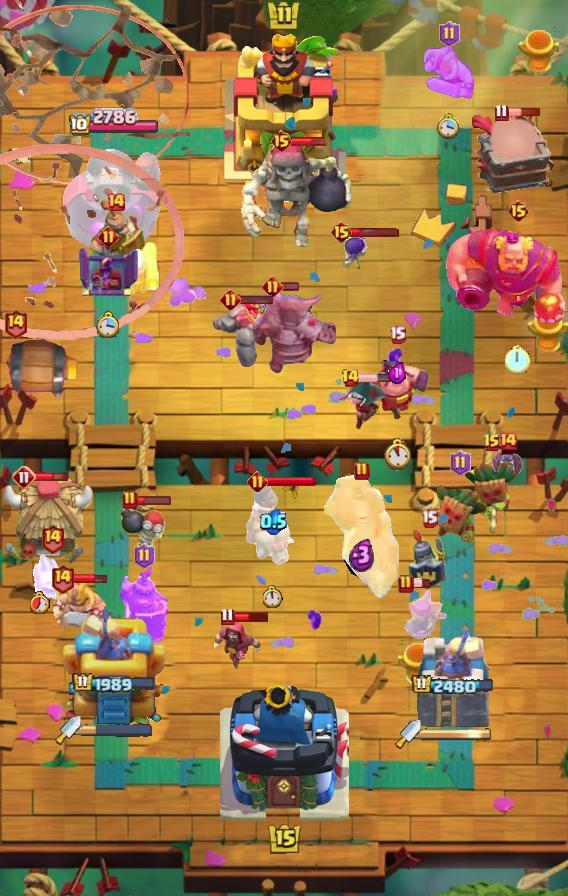bar: (62, 601, 166, 731), (414, 623, 492, 731)
barbarian-barrel: (491, 449, 525, 477)
bowler: (212, 618, 262, 672)
dart-goblin: (469, 112, 554, 194)
earthquake: (87, 200, 145, 270)
electro-giant: (239, 139, 357, 251)
electro-spirit: (349, 538, 375, 572), (260, 508, 287, 535), (388, 362, 406, 384)
elite-barbarian: (245, 481, 301, 569)
elixir: (383, 437, 413, 470), (505, 344, 531, 374), (437, 112, 461, 140), (96, 310, 120, 337), (30, 590, 50, 614), (263, 585, 283, 608)
elixir-golem-big: (118, 561, 170, 649)
emote: (265, 475, 317, 487), (350, 227, 400, 238), (233, 609, 271, 623), (34, 469, 69, 483), (72, 571, 108, 584), (238, 293, 274, 305), (136, 495, 172, 506), (290, 136, 325, 147), (357, 373, 393, 383), (506, 107, 541, 117), (280, 280, 299, 291), (413, 579, 432, 590)
evolution-symbol: (391, 587, 449, 649)
goblin: (340, 234, 370, 274)
goblin-barrel: (462, 458, 522, 534), (432, 481, 488, 545)
goblin-giant: (422, 43, 476, 99), (50, 577, 108, 629)
golemite: (241, 287, 337, 373)
guard: (0, 5, 190, 184)
ice-golem: (118, 504, 170, 558)
ice-spirit-evolution-symbol: (76, 245, 140, 299)
king-tower: (219, 678, 349, 826), (222, 31, 346, 181)
king-tower-bar: (81, 723, 153, 737), (421, 727, 493, 741)
lightning: (445, 227, 567, 327)
mirror: (32, 554, 72, 604)
monk: (364, 344, 430, 422)
prince: (0, 476, 94, 566)
princess: (408, 527, 450, 591)
selected: (68, 108, 160, 138), (71, 672, 156, 696), (411, 674, 495, 698)
skeleton-barrel: (0, 0, 184, 342)
tesla: (334, 377, 388, 431)
text: (39, 522, 64, 553), (50, 562, 75, 593), (4, 308, 28, 339), (12, 465, 36, 489), (271, 129, 294, 153), (507, 199, 530, 223), (331, 220, 354, 244), (439, 21, 460, 47), (449, 450, 470, 476), (133, 543, 154, 569), (98, 225, 119, 247), (261, 275, 282, 296), (220, 289, 241, 310), (247, 471, 268, 492), (106, 192, 126, 212), (498, 431, 518, 451), (340, 368, 359, 388), (483, 433, 501, 453), (354, 461, 370, 481), (122, 490, 138, 510), (398, 574, 414, 594), (389, 325, 406, 343), (421, 509, 438, 527), (220, 607, 235, 625), (495, 103, 509, 121)
the-log: (0, 340, 80, 400)
tombstone: (119, 239, 161, 297)
tower-bar: (62, 138, 166, 256)
valkyrie-evolution: (210, 297, 282, 369)
wizard: (324, 475, 400, 601)
